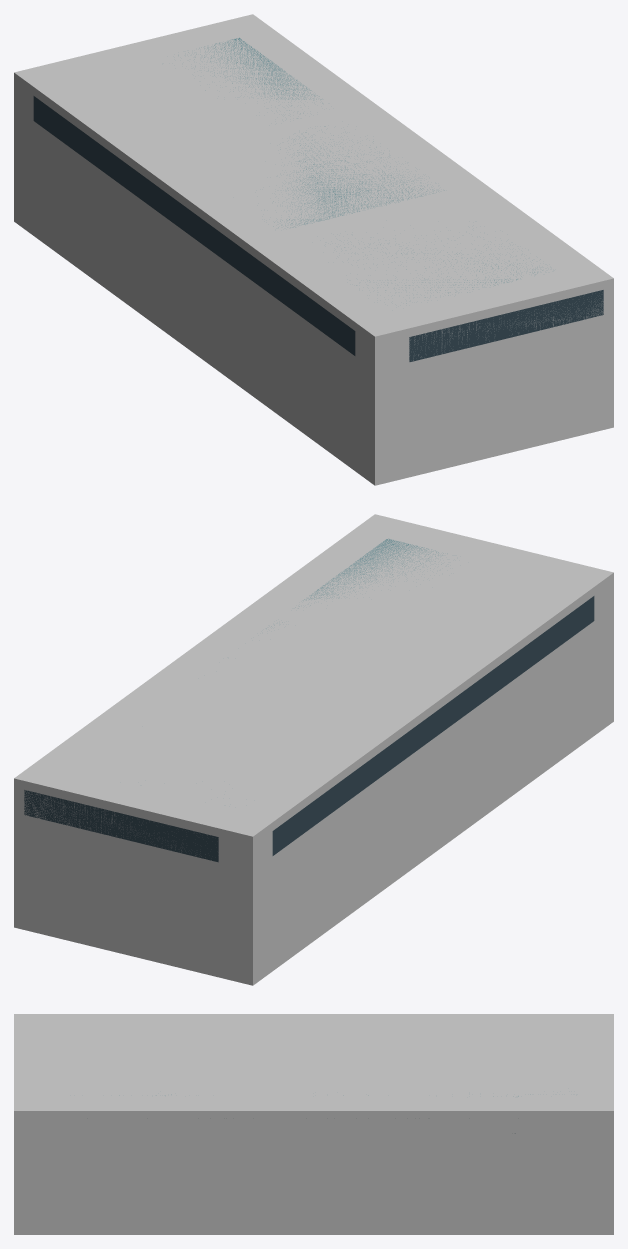
File: SM_Bench_03.fbx
3 renders of one model, top to bottom at view 1: azimuth 30°, elevation 25°; view 2: azimuth 150°, elevation 25°; view 3: azimuth 270°, elevation 25°, orthographic. The views are drawn at different scales.
Visible parts, largest first — view 1: SM_Bench_03_ConvexHulls, SM_Bench_03; view 2: SM_Bench_03_ConvexHulls, SM_Bench_03; view 3: SM_Bench_03_ConvexHulls.
Boxes of the visible parts, box(x1,y1,x2,y2) form: SM_Bench_03_ConvexHulls: box(14, 14, 613, 485); SM_Bench_03: box(33, 37, 603, 361); SM_Bench_03_ConvexHulls: box(14, 514, 613, 985); SM_Bench_03: box(24, 538, 594, 862); SM_Bench_03_ConvexHulls: box(14, 1014, 613, 1234).
Size of the model in its own units: 108 by 284 by 64.66.
2 materials, 1 textured.
